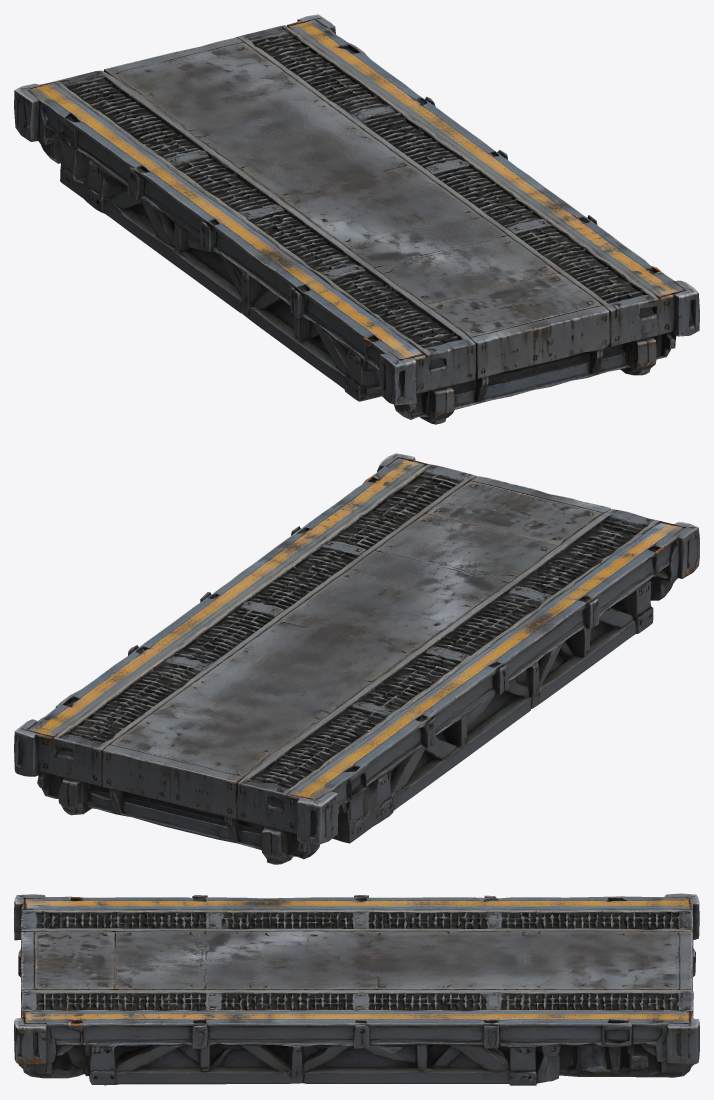
The model's file is ENV-BRIDGEKIT-DECK-lod0.glb.
3 renders of one model, top to bottom at view 1: azimuth 30°, elevation 25°; view 2: azimuth 150°, elevation 25°; view 3: azimuth 270°, elevation 25°, orthographic. The views are drawn at different scales.
Visible parts, largest first — view 1: Mesh; view 2: Mesh; view 3: Mesh.
Part boxes in pixels (x1,y1,x2,y2): Mesh: (14, 14, 699, 424); Mesh: (14, 453, 699, 864); Mesh: (14, 893, 699, 1085).
Size of the model in its own units: 0.8832 by 0.2159 by 1.9.
1 material, 1 textured.
